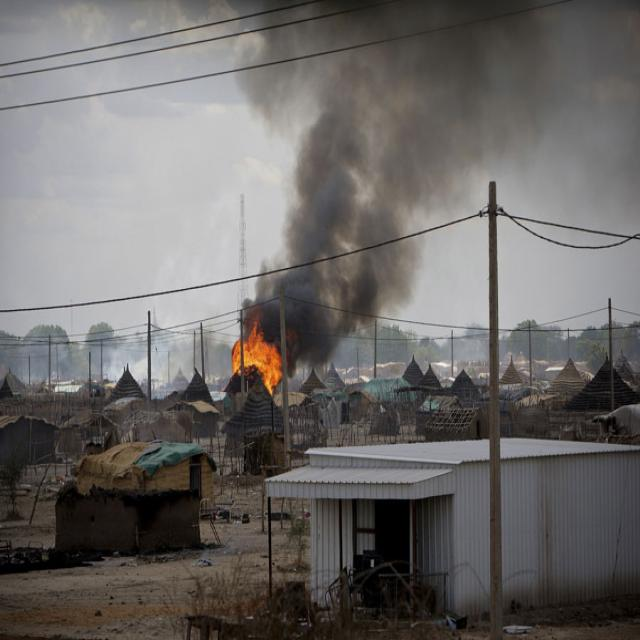fire: (235, 334, 283, 393)
smoke: (298, 12, 602, 182), (290, 200, 406, 322)
